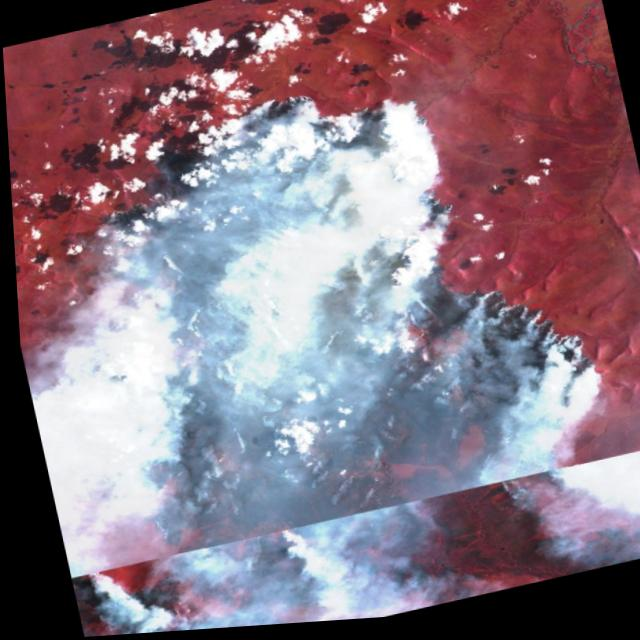fire: (3, 34, 639, 640)
